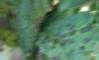Tomato leaf bacterial spot: (21, 15, 99, 60), (13, 0, 65, 60), (0, 0, 28, 47)
